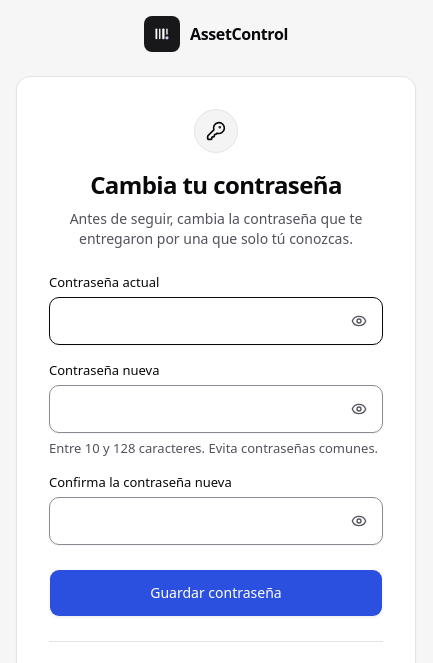
Test: /cambiar-contrasena: el formulario › la contraseña actual (la que te entregaron) también se puede mostrar para revisarla
Later steps or results of the test are not shown.
What coordinates should you click on to do the following:
click the button named "Mostrar la contraseña actual"
I would click on:
 (359, 321)
Its box is [335,297,383,345].
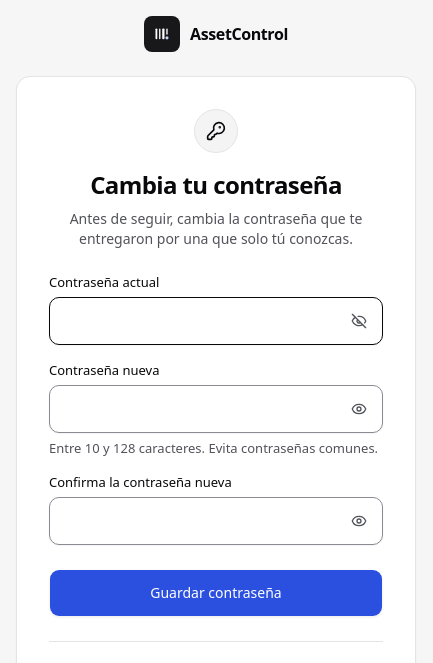
Expected: the button named "Ocultar la contraseña actual" is pressed, [335,297,383,345]
